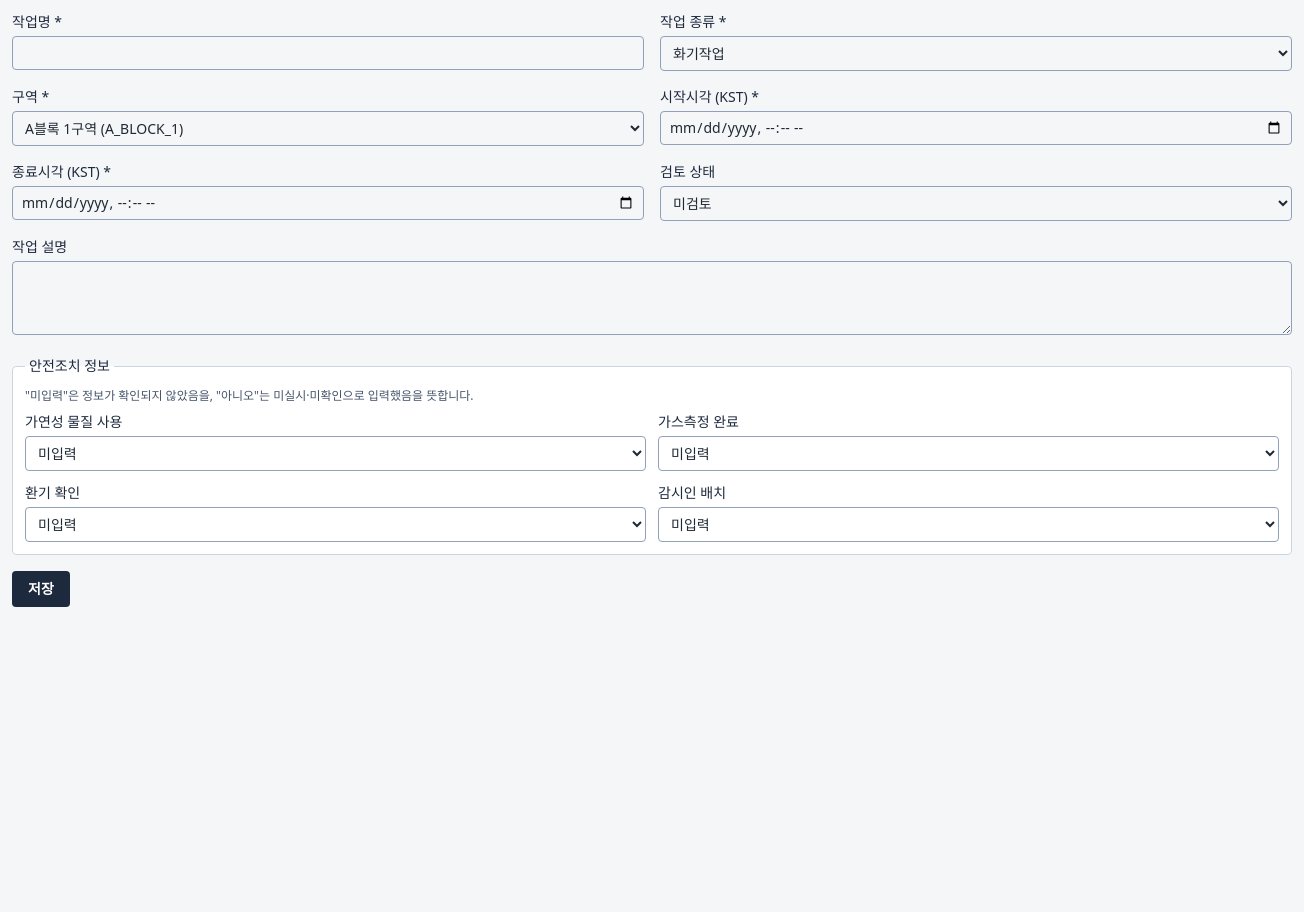
Test case: 작업 직접 등록 폼 › 종료시각이 시작시각보다 빠르면 오류를 보여준다
Type "테스트 용접" into the field labelled "작업명 *" at (328, 53), box [12,36,644,70]
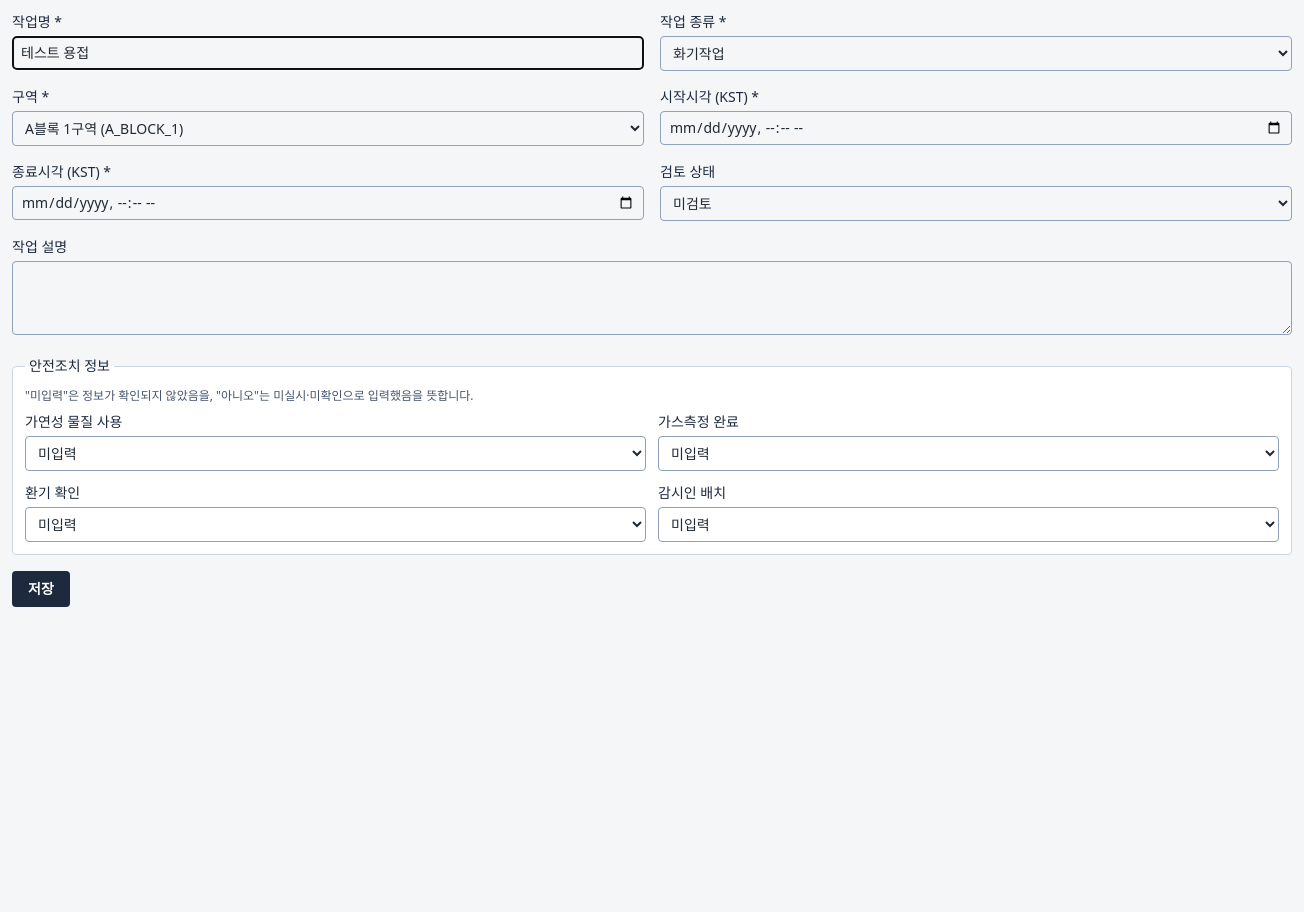
Type "2026-03-16T12:00" into the field labelled "시작시각 (KST) *" at (976, 128), box [660,111,1292,145]
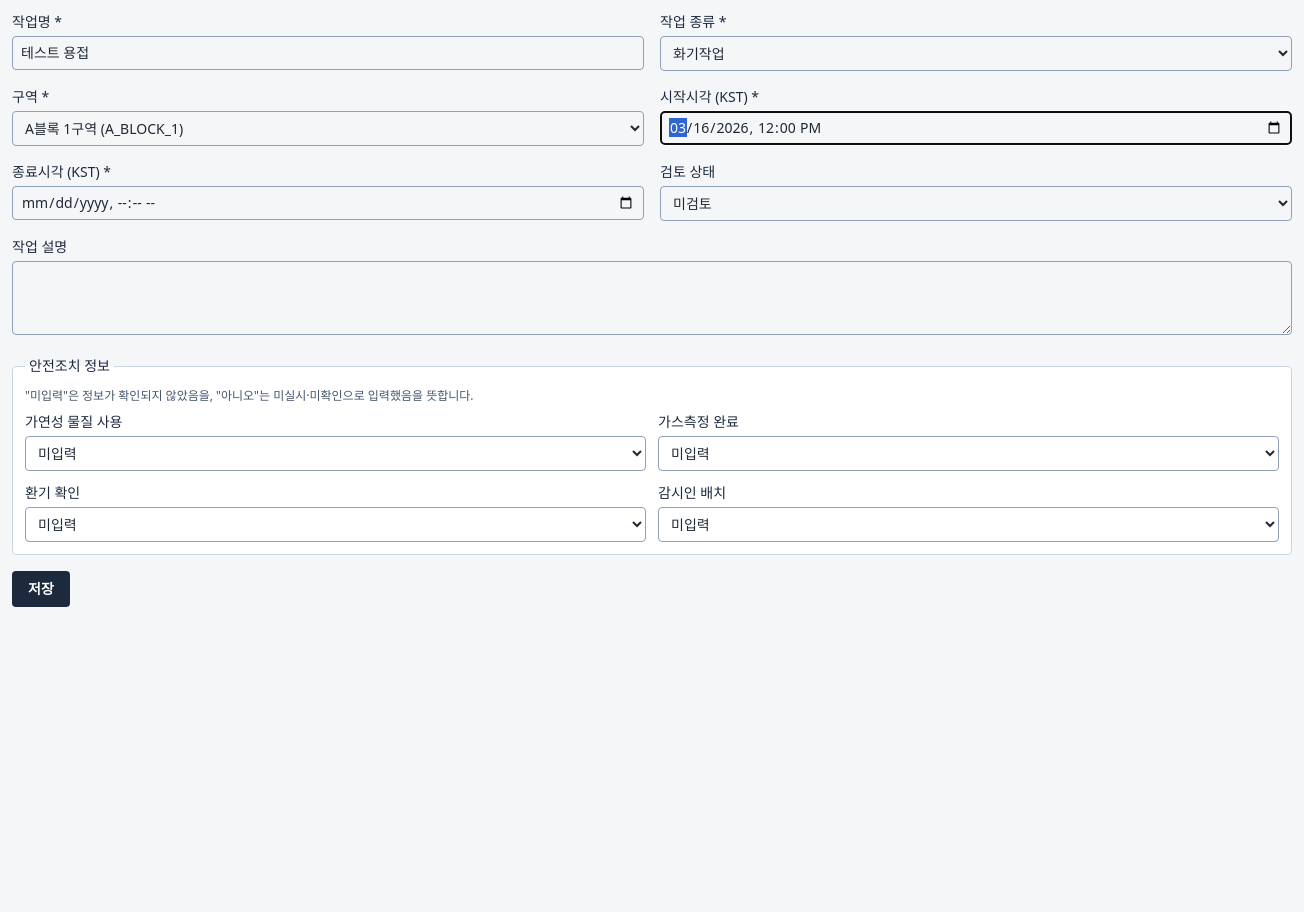
Type "2026-03-16T09:00" into the field labelled "종료시각 (KST) *" at (328, 203), box [12,186,644,220]
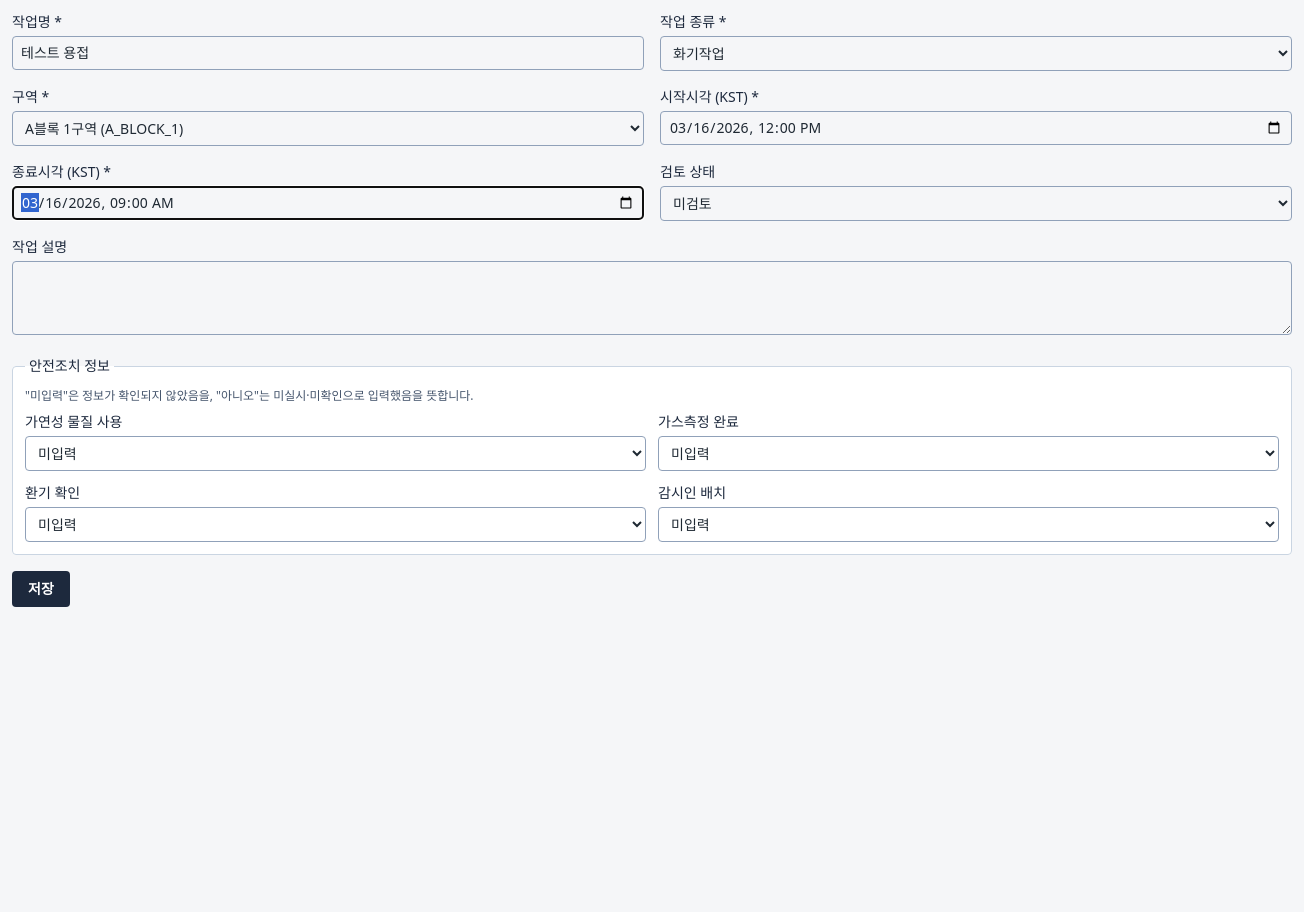
Click the button "저장" at (41, 589), box [12,571,70,607]
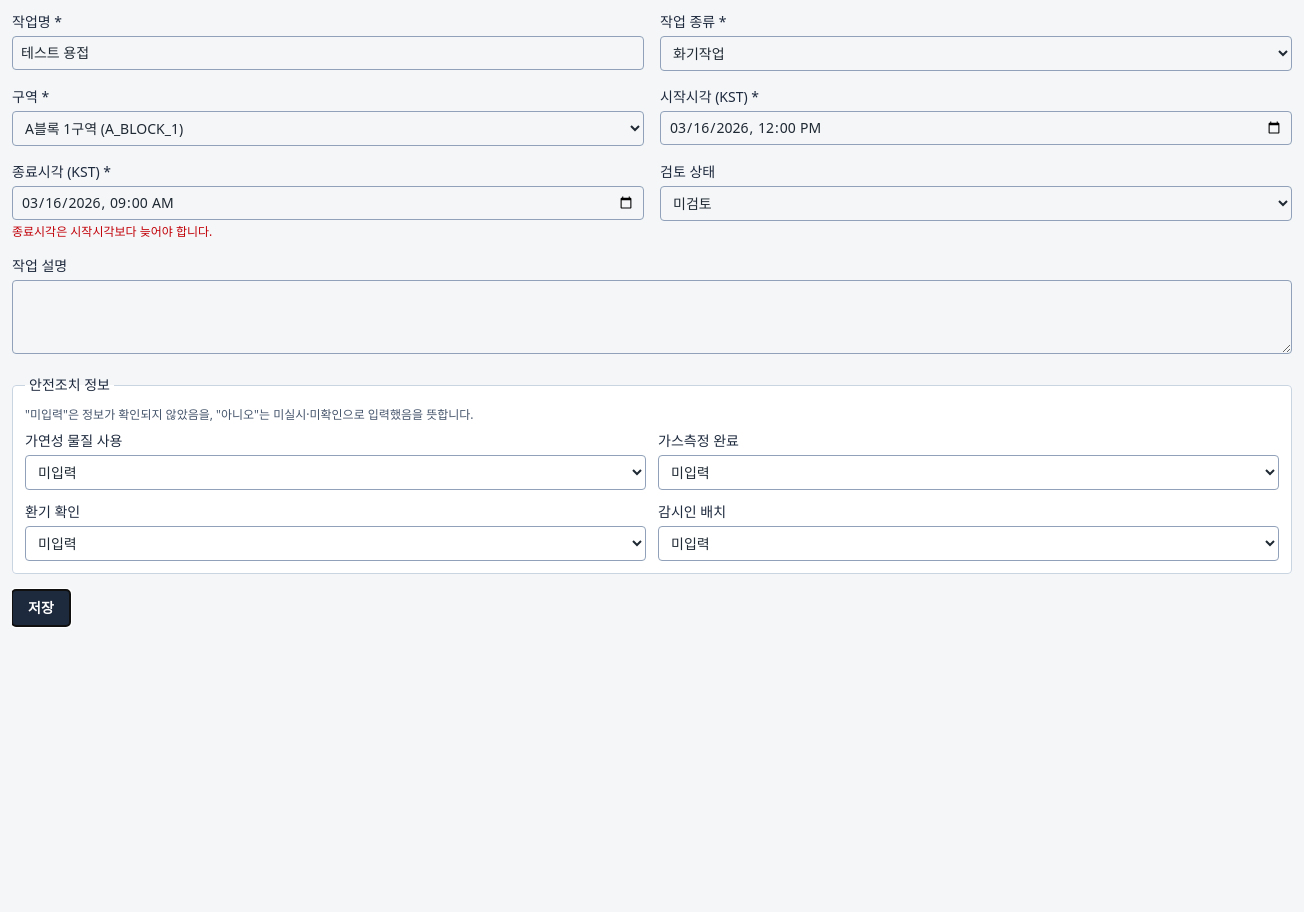
Expected: the text "종료시각은 시작시각보다 늦어야 합니다." is shown, [12,223,212,240]
